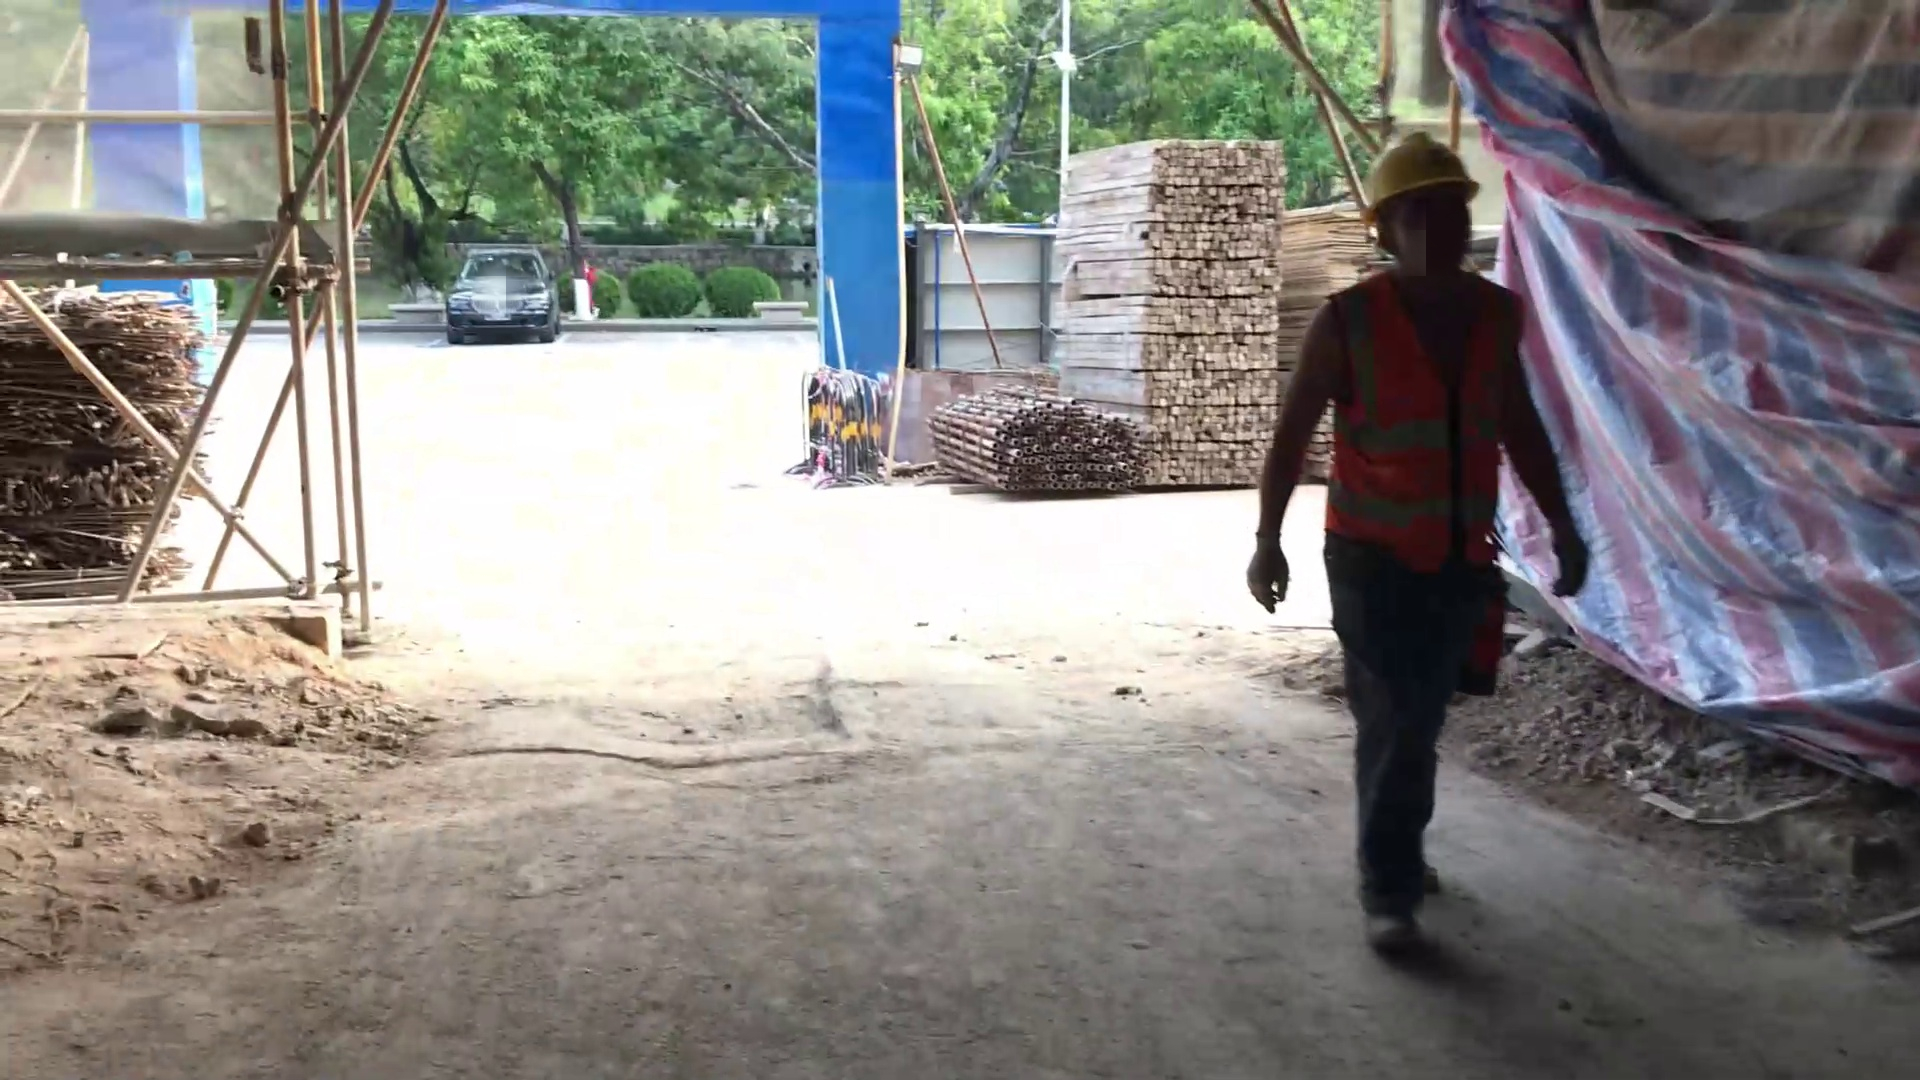helmet: (1353, 127, 1479, 221)
person: (1242, 128, 1593, 957)
scaffold: (920, 380, 1149, 494)
vest: (1325, 265, 1526, 571)
wood: (1049, 136, 1282, 491)
